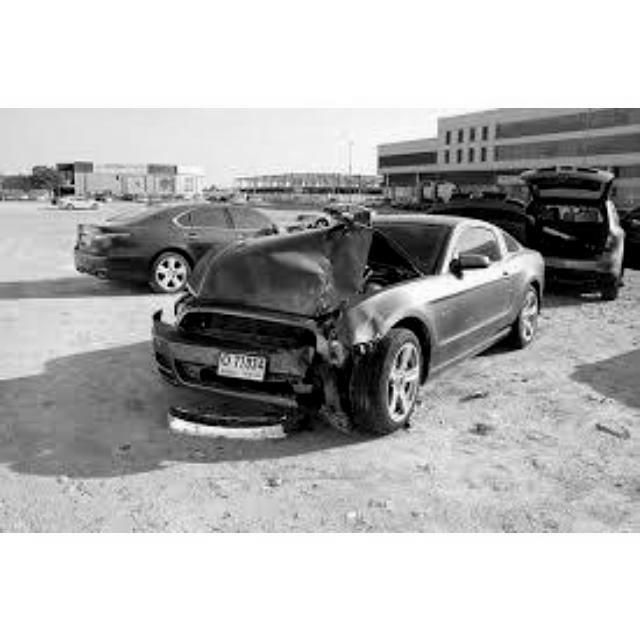bonnet-dent: (198, 219, 402, 309)
front-bumper-dent: (173, 327, 319, 396)
